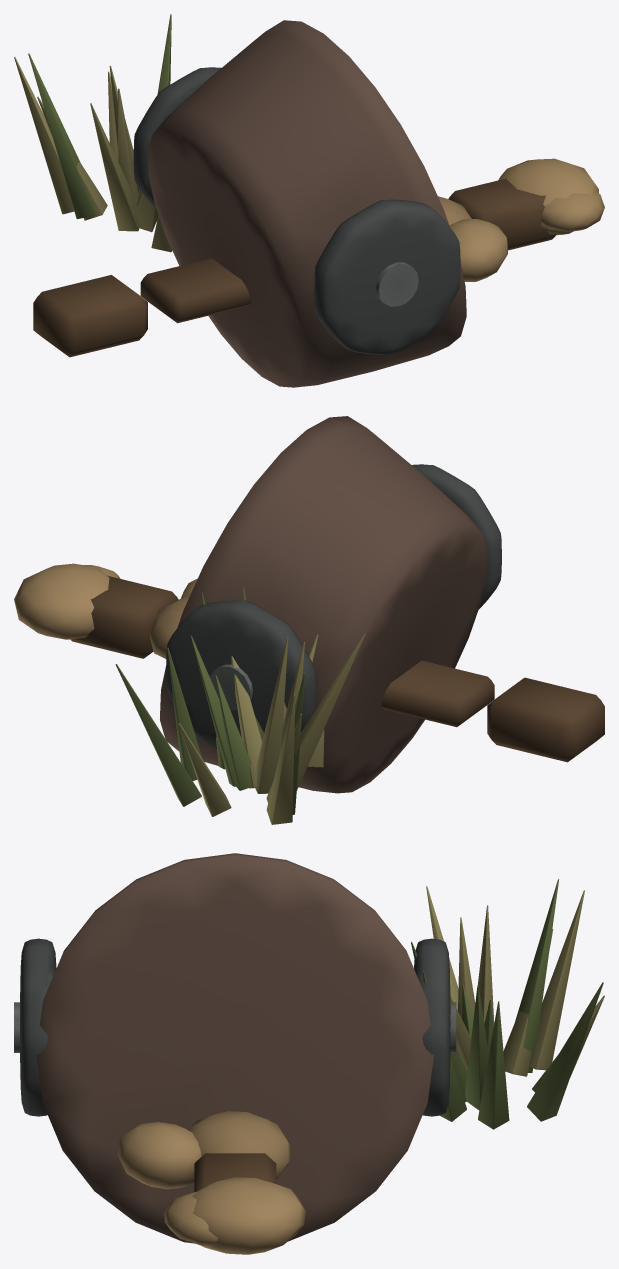
File: ore_trolley_c.glb
3 renders of one model, top to bottom at view 1: azimuth 30°, elevation 25°; view 2: azimuth 150°, elevation 25°; view 3: azimuth 270°, elevation 25°, orthographic. The views are drawn at different scales.
Parts seen in each view (by area): view 1: Surface; view 2: Surface; view 3: Surface.
Boxes of the visible parts, x1=… form: Surface: x1=14, y1=14, x2=604, y2=387; Surface: x1=14, y1=416, x2=604, y2=824; Surface: x1=14, y1=853, x2=604, y2=1254.
Bounding box in the file's own units: 2.52 × 1.45 × 2.16.
